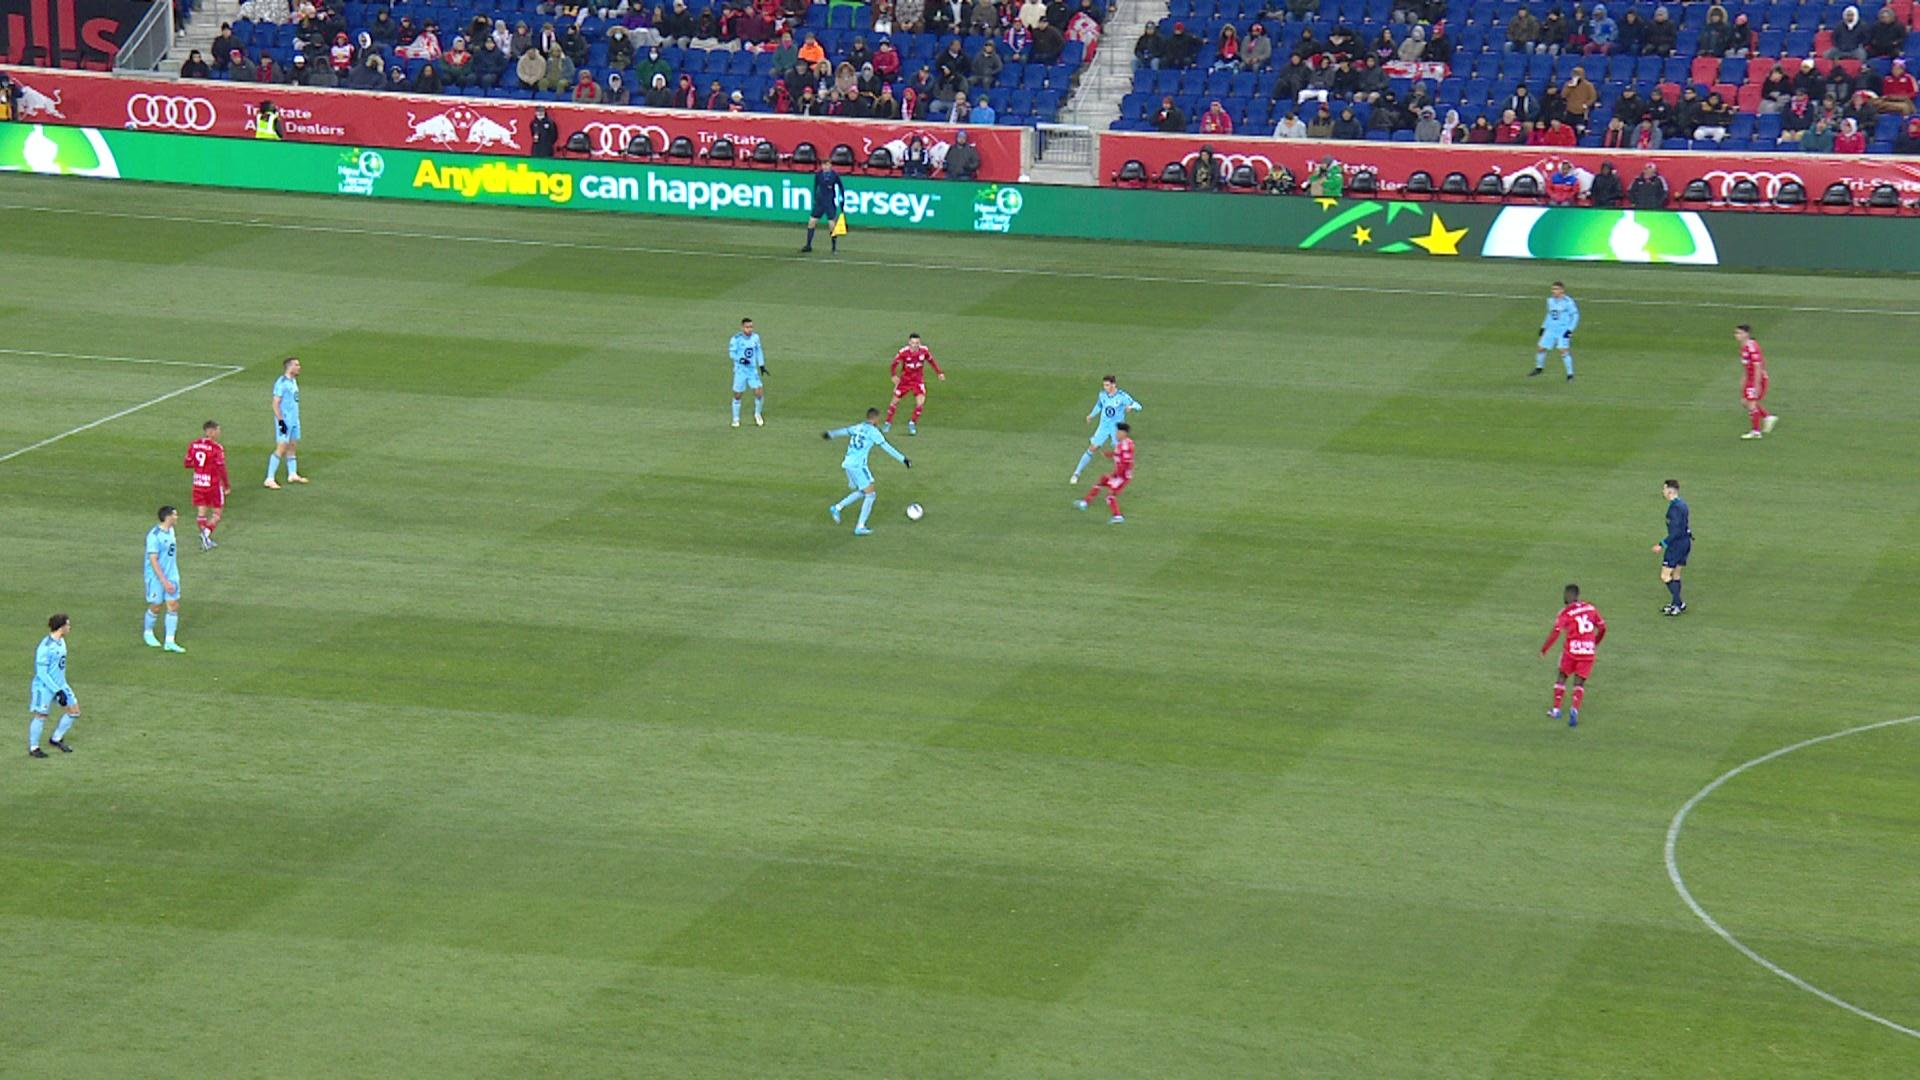football: (906, 502, 924, 521)
